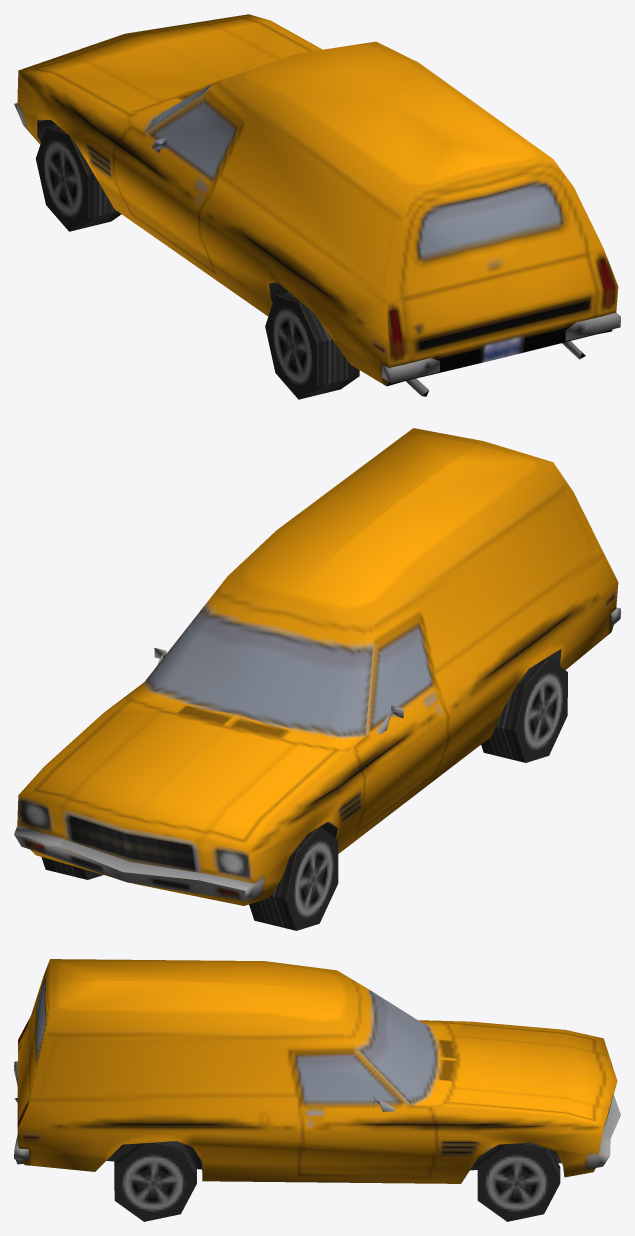
The model's file is fhqDiecast18HQSandman.fbx.
The picture shows the model from 3 angles, top to bottom: view 1: azimuth 30°, elevation 25°; view 2: azimuth 150°, elevation 25°; view 3: azimuth 270°, elevation 25°; orthographic projection. The views are drawn at different scales.
Visible parts, largest first — view 1: fhqHQSandman; view 2: fhqHQSandman; view 3: fhqHQSandman.
Boxes of the visible parts, bbox=[...] form: fhqHQSandman: bbox=[14, 14, 620, 399]; fhqHQSandman: bbox=[14, 428, 620, 930]; fhqHQSandman: bbox=[14, 959, 620, 1221].
Size of the model in its own units: 0.2078 by 0.1883 by 0.5377.
